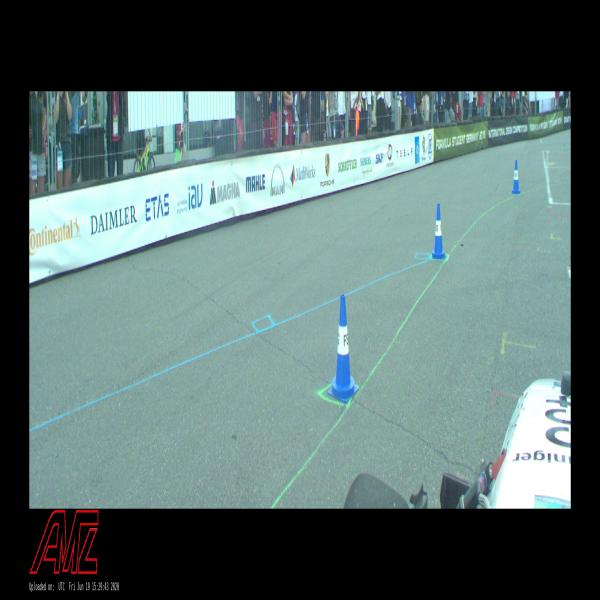blue_cone: (328, 295, 358, 402), (432, 204, 445, 259), (511, 160, 520, 194)
